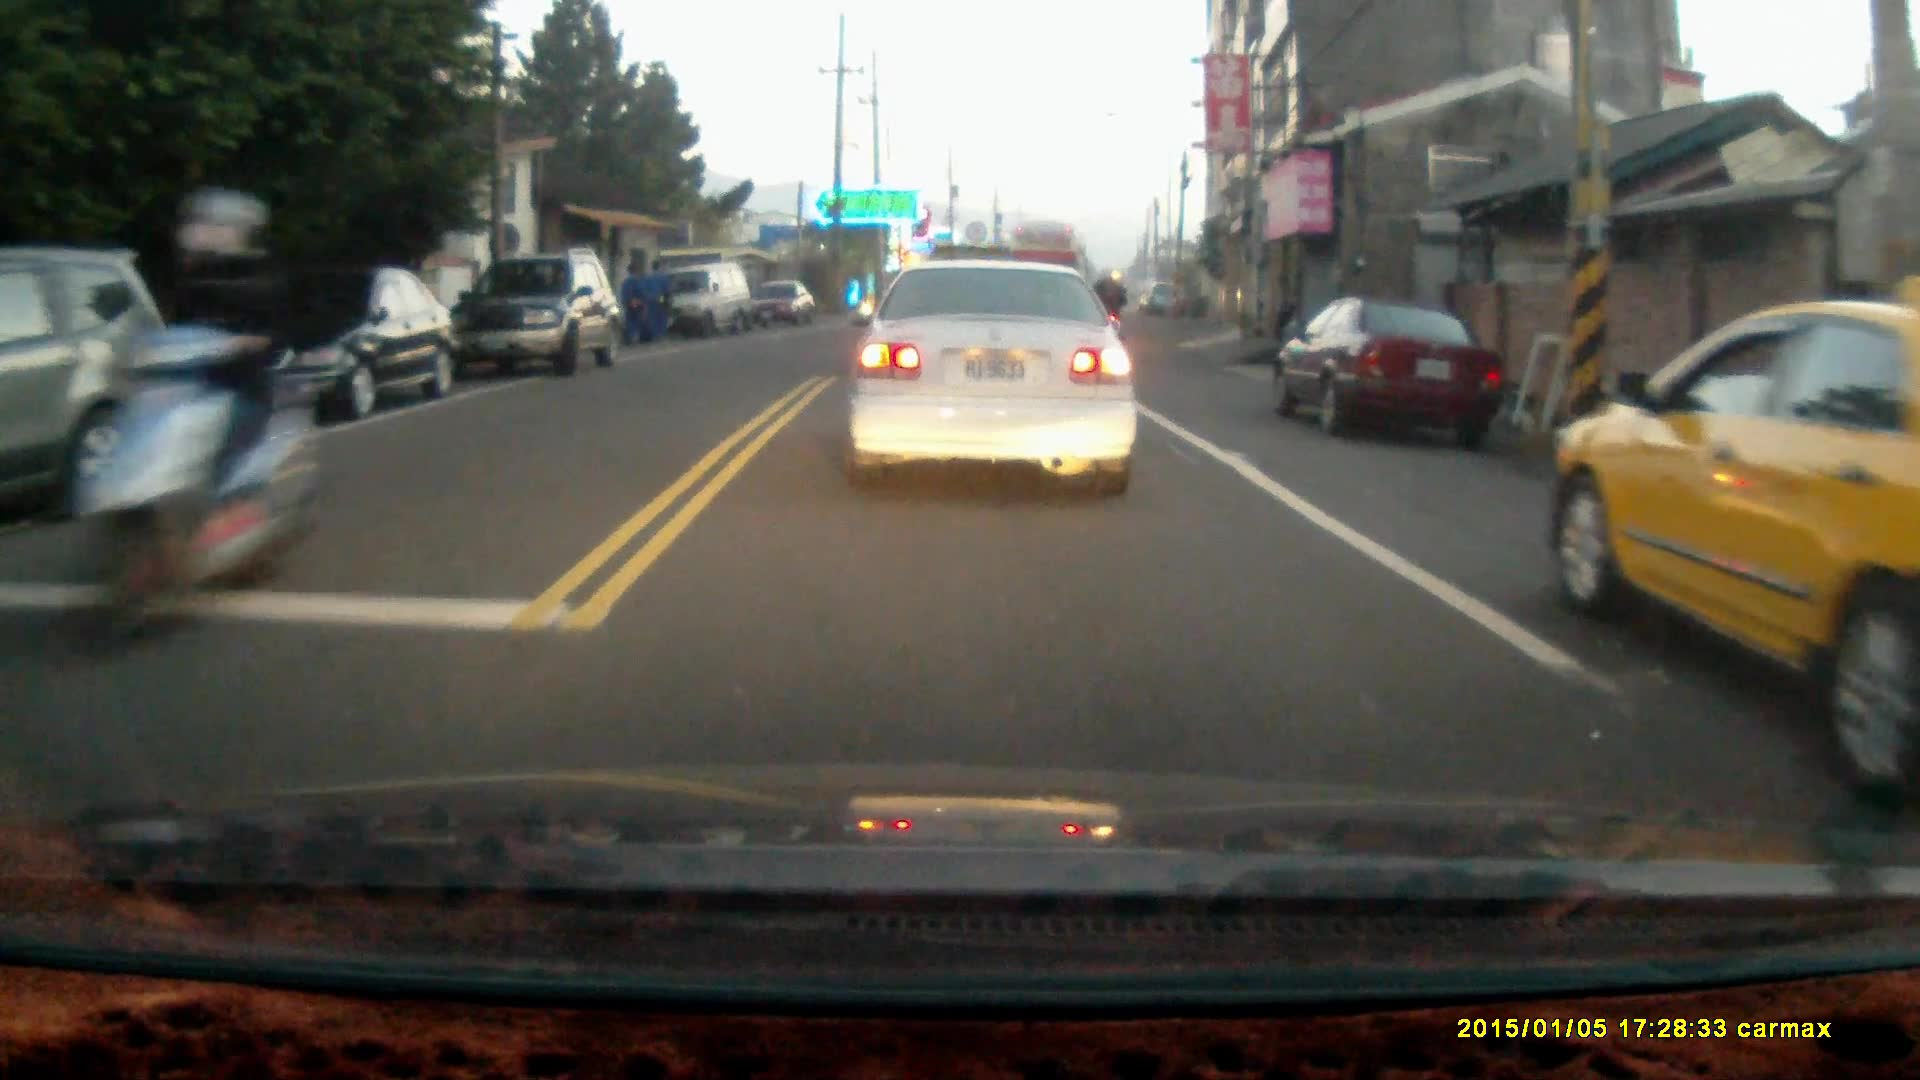pedestrian: (641, 260, 669, 349), (618, 262, 646, 347)
rider: (71, 186, 316, 669), (1085, 265, 1129, 363)
vehicle: (1557, 281, 1920, 818), (851, 261, 1140, 506), (190, 263, 459, 422), (1273, 298, 1508, 447), (444, 251, 623, 379), (645, 265, 755, 340), (733, 279, 816, 329)
